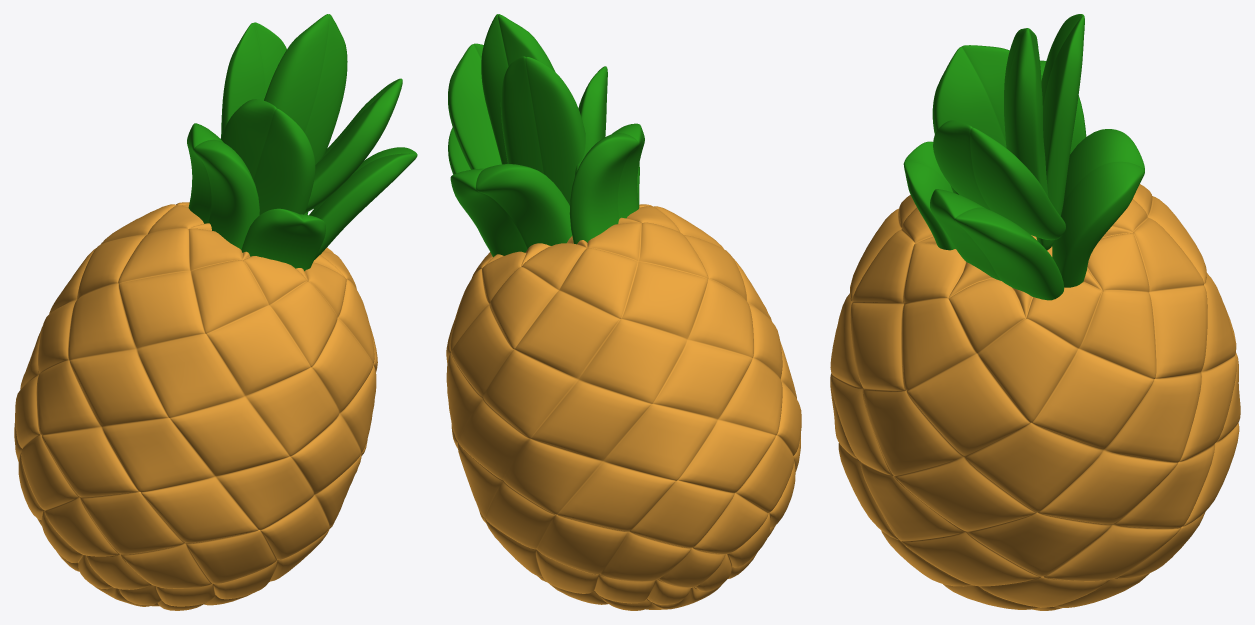
File: Pineapple.glb
3 views of the same model, side by side, from view 1: azimuth 30°, elevation 25°; view 2: azimuth 150°, elevation 25°; view 3: azimuth 270°, elevation 25° (orthographic). The views are drawn at different scales.
Visible parts, largest first — view 1: Sphere.002, Cube.015, Cube.014, Cube.012, Cube.013, Cube.010, Cube.017, Cube.007; view 2: Sphere.002, Cube.017, Cube.016, Cube.012, Cube.013, Cube.015, Cube.014, Cube.010; view 3: Sphere.002, Cube.016, Cube.013, Cube.010, Cube.017, Cube.014, Cube.015, Cube.007, Cube.012.
Boxes of the visible parts, bbox=[...] form: Sphere.002: bbox=[14, 202, 377, 610]; Cube.015: bbox=[264, 14, 347, 164]; Cube.014: bbox=[220, 99, 315, 214]; Cube.012: bbox=[187, 123, 259, 249]; Cube.013: bbox=[305, 78, 402, 213]; Cube.010: bbox=[309, 147, 417, 259]; Cube.017: bbox=[221, 22, 286, 136]; Cube.007: bbox=[241, 208, 325, 271]; Sphere.002: bbox=[446, 204, 801, 610]; Cube.017: bbox=[500, 56, 585, 205]; Cube.016: bbox=[450, 164, 572, 256]; Cube.012: bbox=[569, 123, 644, 244]; Cube.013: bbox=[448, 43, 501, 169]; Cube.015: bbox=[481, 14, 555, 164]; Cube.014: bbox=[574, 66, 607, 176]; Cube.010: bbox=[448, 127, 487, 247]; Sphere.002: bbox=[830, 184, 1240, 610]; Cube.016: bbox=[1052, 129, 1144, 287]; Cube.013: bbox=[933, 120, 1065, 240]; Cube.010: bbox=[930, 189, 1064, 300]; Cube.017: bbox=[1036, 14, 1084, 250]; Cube.014: bbox=[932, 45, 1041, 194]; Cube.015: bbox=[1004, 28, 1048, 196]; Cube.007: bbox=[903, 141, 955, 250]; Cube.012: bbox=[1040, 60, 1086, 154].
Bounding box in the file's own units: 1.99 × 2.99 × 1.72.
